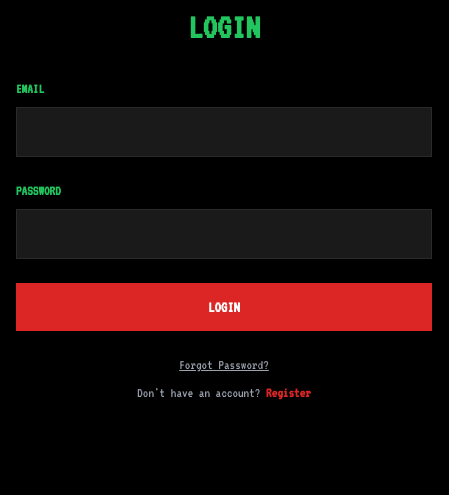
Test: LoginPage › shows error for short password
Type "valid@example.com" into the field labelled "EMAIL".
click(224, 132); type("valid@example.com")  # box [16,107,432,157]
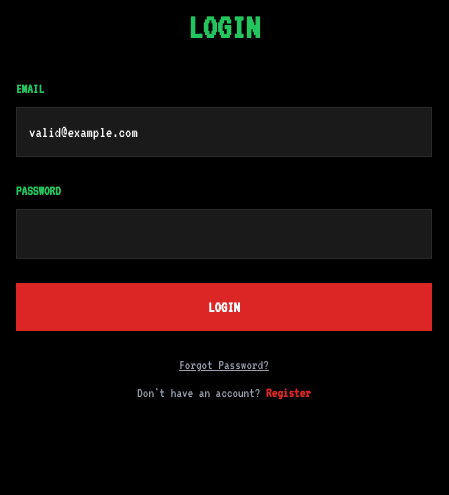
Type "short" into the password field labelled "PASSWORD".
click(224, 234); type("short")  # box [16,209,432,259]
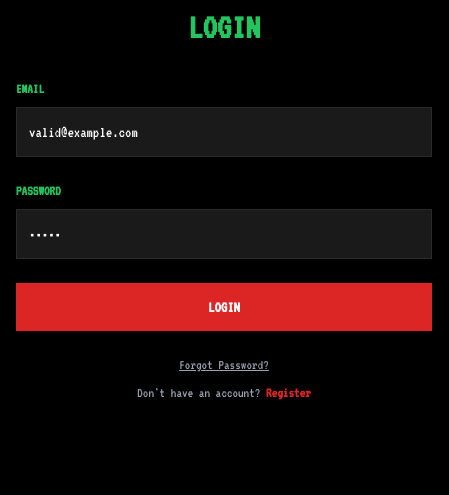
Click the button "LOGIN".
click(224, 307)  # box [16,283,432,331]
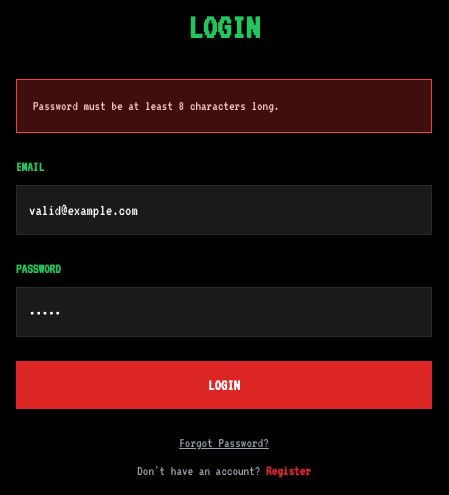
expect the text "Password must be at least 8 characters long." is shown: met, box [16,79,432,133]
